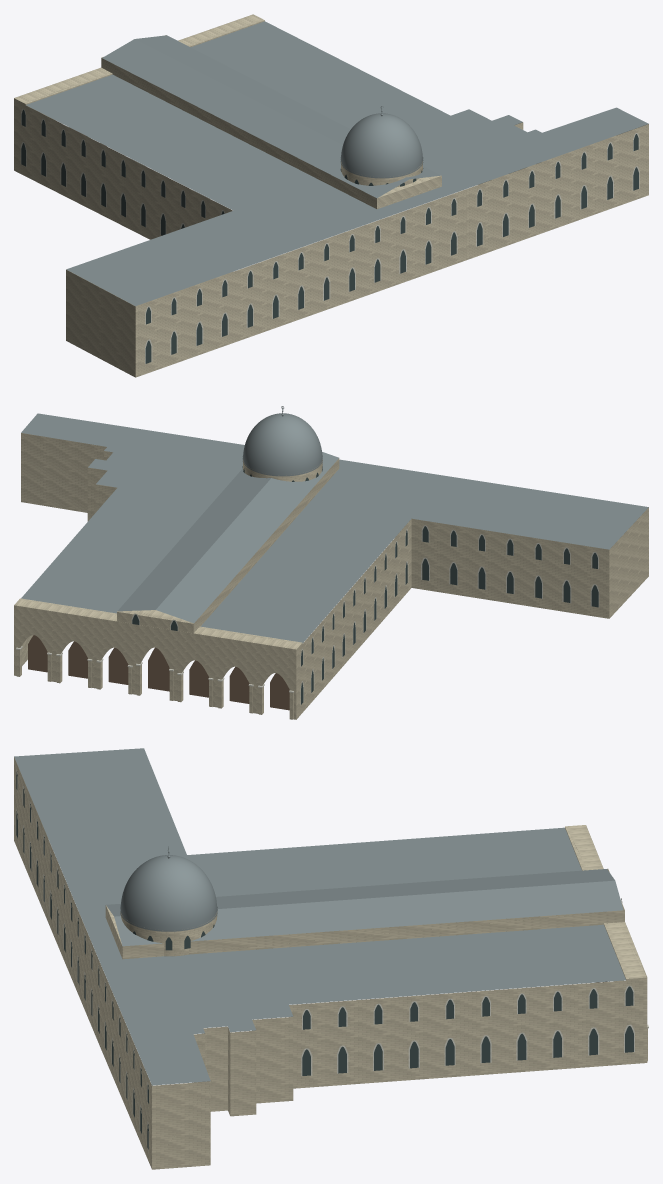
The model's file is al-aqsa-v147.glb.
3 renders of one model, top to bottom at view 1: azimuth 30°, elevation 25°; view 2: azimuth 150°, elevation 25°; view 3: azimuth 270°, elevation 25°, orthographic. The views are drawn at different scales.
Parts seen in each view (by area): view 1: AqsaBody_lead, AqsaBody_stone, AqsaBody_dark, AqsaRoofDome_lead, AqsaBody_marble, AqsaRoofDome_stone; view 2: AqsaBody_lead, AqsaBody_stone, AqsaBody_timber, AqsaRoofDome_lead, AqsaBody_dark, AqsaBody_marble, AqsaRoofDome_stone; view 3: AqsaBody_lead, AqsaBody_stone, AqsaRoofDome_lead, AqsaBody_dark, AqsaBody_marble, AqsaRoofDome_stone.
Boxes of the visible parts, x1=… form: AqsaBody_lead: x1=26, y1=21, x2=648, y2=306; AqsaBody_stone: x1=14, y1=14, x2=648, y2=377; AqsaBody_dark: x1=21, y1=109, x2=638, y2=363; AqsaRoofDome_lead: x1=340, y1=106, x2=423, y2=178; AqsaBody_marble: x1=20, y1=108, x2=639, y2=364; AqsaRoofDome_stone: x1=341, y1=161, x2=422, y2=187; AqsaBody_lead: x1=21, y1=413, x2=648, y2=642; AqsaBody_stone: x1=14, y1=433, x2=648, y2=719; AqsaBody_timber: x1=28, y1=635, x2=289, y2=710; AqsaRoofDome_lead: x1=242, y1=406, x2=322, y2=476; AqsaBody_dark: x1=132, y1=526, x2=598, y2=704; AqsaBody_marble: x1=16, y1=525, x2=599, y2=705; AqsaRoofDome_stone: x1=243, y1=459, x2=322, y2=481; AqsaBody_lead: x1=14, y1=748, x2=625, y2=1085; AqsaBody_stone: x1=14, y1=757, x2=647, y2=1169; AqsaRoofDome_lead: x1=120, y1=846, x2=217, y2=931; AqsaBody_dark: x1=16, y1=771, x2=633, y2=1149; AqsaBody_marble: x1=15, y1=769, x2=648, y2=1151; AqsaRoofDome_stone: x1=120, y1=911, x2=217, y2=956.
Size of the model in its own units: 121 by 29 by 95.97.
5 materials, 2 textured.
